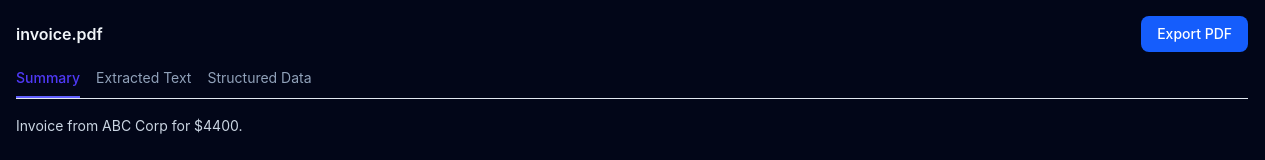
DocumentDetail › does not crash for malformed extractedJson
Click the button "Structured Data" at [260, 83], box [207,68,312,98]
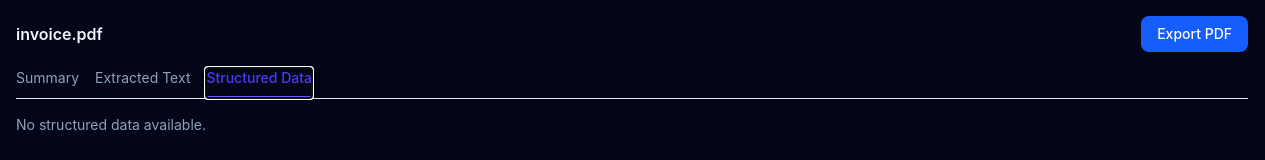
expect the text "No structured data available." is shown: met, box [16,116,206,133]
